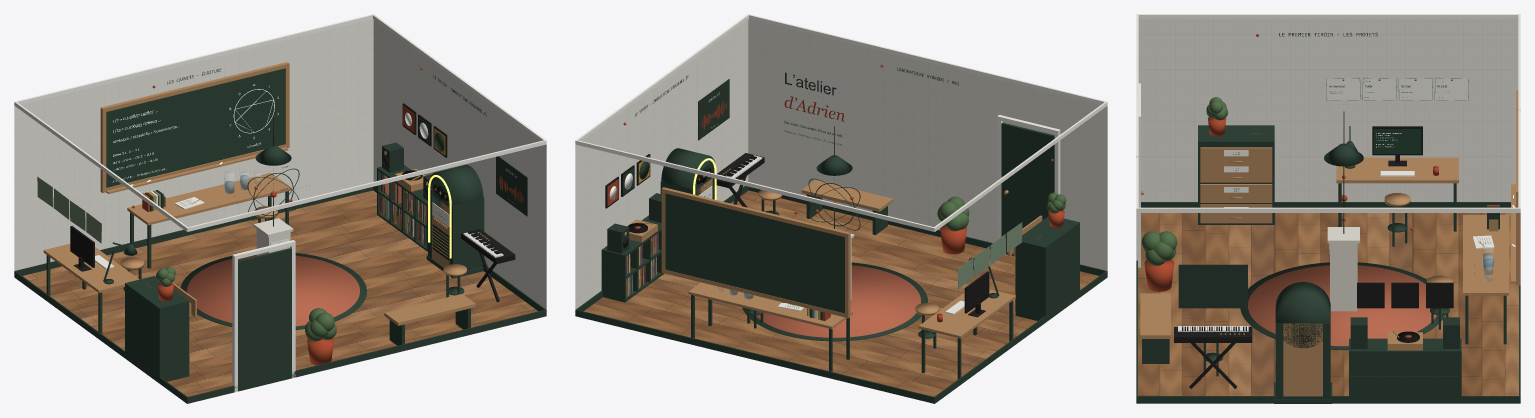
File: atelier.glb
3 renders of one model, left to right at view 1: azimuth 30°, elevation 25°; view 2: azimuth 150°, elevation 25°; view 3: azimuth 270°, elevation 25°, orthographic. The views are drawn at different scales.
Parts seen in each view (by area): view 1: Mur, Sol, Mur.002, Tableau, Porte, Meuble à tiroirs, Tapis.001, Plateau, Plinthe.001, Corniche.001, Corniche, Pilastre.001 (+22 smaller); view 2: Mur.001, Sol, Mur.002, Tableau, Meuble à tiroirs, Tapis.001, Porte, Plinthe, Plateau, Corniche, Corniche.001, Plateau.001 (+18 smaller); view 3: Mur.003, Sol, Tapis.001, Fond, Plateau, Affiche, Caisse, Dôme, Plinthe.002, Plateau.001, Meuble à tiroirs, Corniche.002 (+35 smaller).
Boxes of the visible parts, x1=… form: Mur: x1=14, y1=19, x2=373, y2=270; Sol: x1=23, y1=190, x2=537, y2=396; Mur.002: x1=373, y1=20, x2=546, y2=309; Tableau: x1=106, y1=68, x2=285, y2=187; Porte: x1=238, y1=248, x2=291, y2=384; Meuble à tiroirs: x1=125, y1=276, x2=189, y2=383; Tapis.001: x1=187, y1=255, x2=359, y2=326; Plateau: x1=127, y1=173, x2=291, y2=225; Plinthe.001: x1=186, y1=310, x2=545, y2=403; Corniche.001: x1=186, y1=140, x2=546, y2=231; Corniche: x1=14, y1=14, x2=374, y2=105; Pilastre.001: x1=449, y1=198, x2=484, y2=270; Mur.001: x1=748, y1=19, x2=1107, y2=270; Sol: x1=584, y1=190, x2=1098, y2=396; Mur.002: x1=575, y1=20, x2=748, y2=309; Tableau: x1=665, y1=193, x2=844, y2=313; Meuble à tiroirs: x1=1015, y1=216, x2=1079, y2=322; Tapis.001: x1=756, y1=265, x2=920, y2=337; Porte: x1=1001, y1=123, x2=1054, y2=255; Plinthe: x1=575, y1=309, x2=934, y2=403; Plateau: x1=688, y1=282, x2=852, y2=329; Corniche: x1=577, y1=140, x2=935, y2=231; Corniche.001: x1=748, y1=14, x2=1107, y2=105; Plateau.001: x1=918, y1=289, x2=1015, y2=338; Mur.003: x1=1138, y1=19, x2=1518, y2=201; Sol: x1=1138, y1=213, x2=1518, y2=395; Tapis.001: x1=1248, y1=265, x2=1436, y2=346; Fond: x1=1351, y1=353, x2=1459, y2=396; Plateau: x1=1463, y1=215, x2=1508, y2=295; Affiche: x1=1178, y1=264, x2=1247, y2=308; Caisse: x1=1283, y1=323, x2=1322, y2=396; Dôme: x1=1275, y1=282, x2=1330, y2=348; Plinthe.002: x1=1136, y1=396, x2=1520, y2=403; Plateau.001: x1=1336, y1=157, x2=1458, y2=183; Meuble à tiroirs: x1=1198, y1=125, x2=1274, y2=224; Corniche.002: x1=1137, y1=207, x2=1520, y2=212.
Bounding box in the file's own units: 6.01 × 2.8 × 5.01.
Materials: 38 (2 with a texture image).
